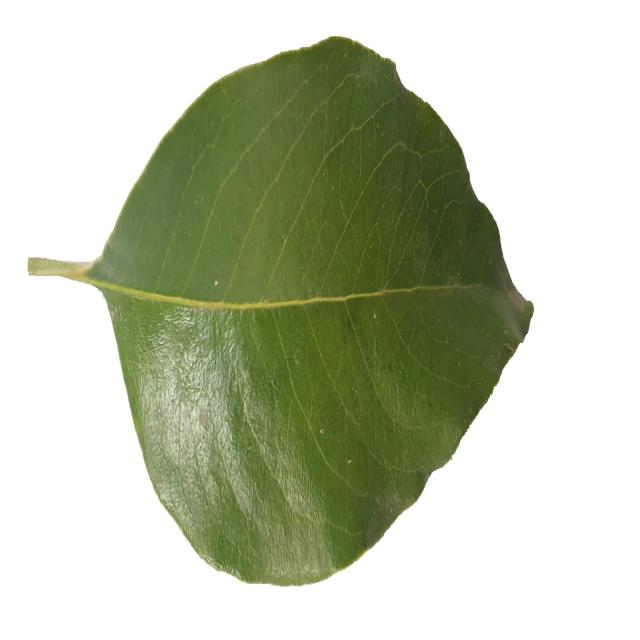Medicinal-Sandalwood: (27, 31, 535, 586)
